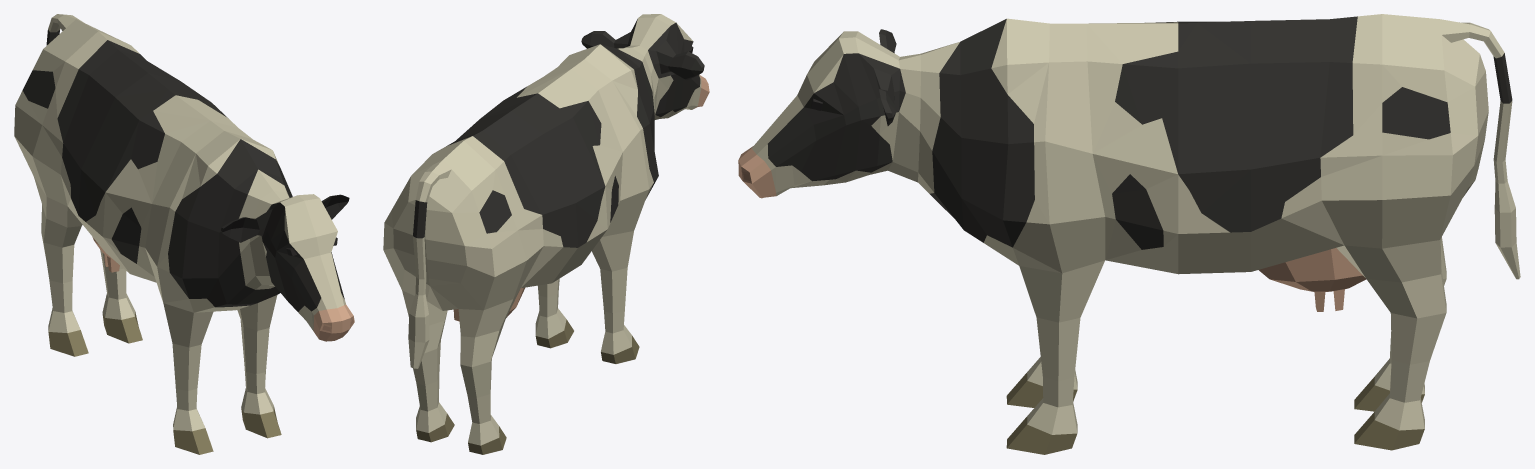
File: Cow.fbx
3 views of the same model, side by side, from view 1: azimuth 30°, elevation 25°; view 2: azimuth 150°, elevation 25°; view 3: azimuth 270°, elevation 25° (orthographic). The views are drawn at different scales.
Visible parts, largest first — view 1: Cow; view 2: Cow; view 3: Cow.
Boxes of the visible parts, <box> form: Cow: <box>14,14,354,454</box>; Cow: <box>383,14,709,454</box>; Cow: <box>738,14,1520,454</box>.
Size of the model in its own units: 73.65 by 150 by 260.
